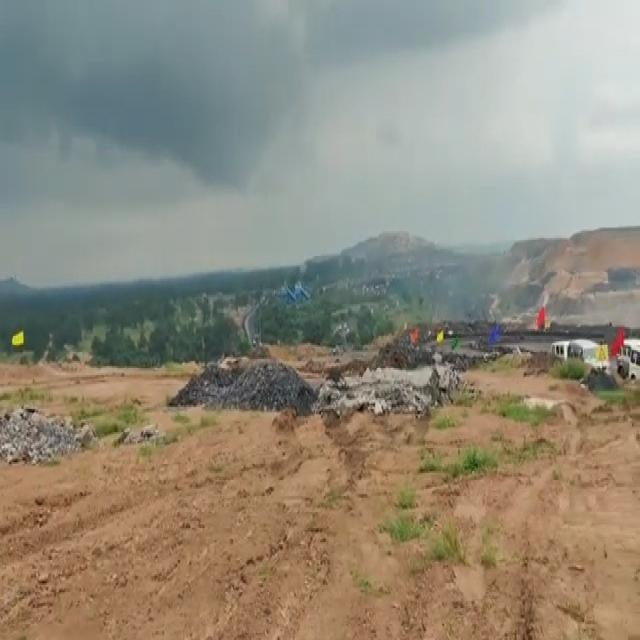light_vehicle: (566, 334, 608, 374), (622, 338, 640, 380)
